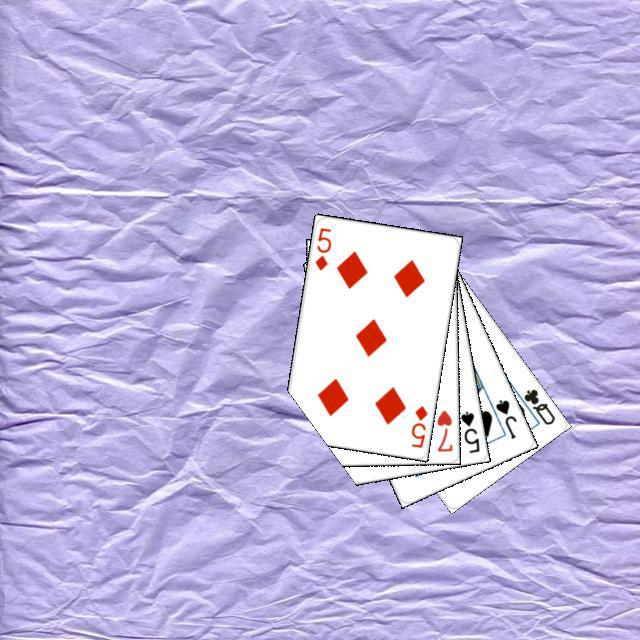5d: (406, 400, 429, 450), (310, 223, 333, 272)
5s: (456, 406, 481, 455)
7h: (432, 405, 454, 453)
Js: (490, 395, 518, 441)
Qc: (511, 384, 557, 427)
